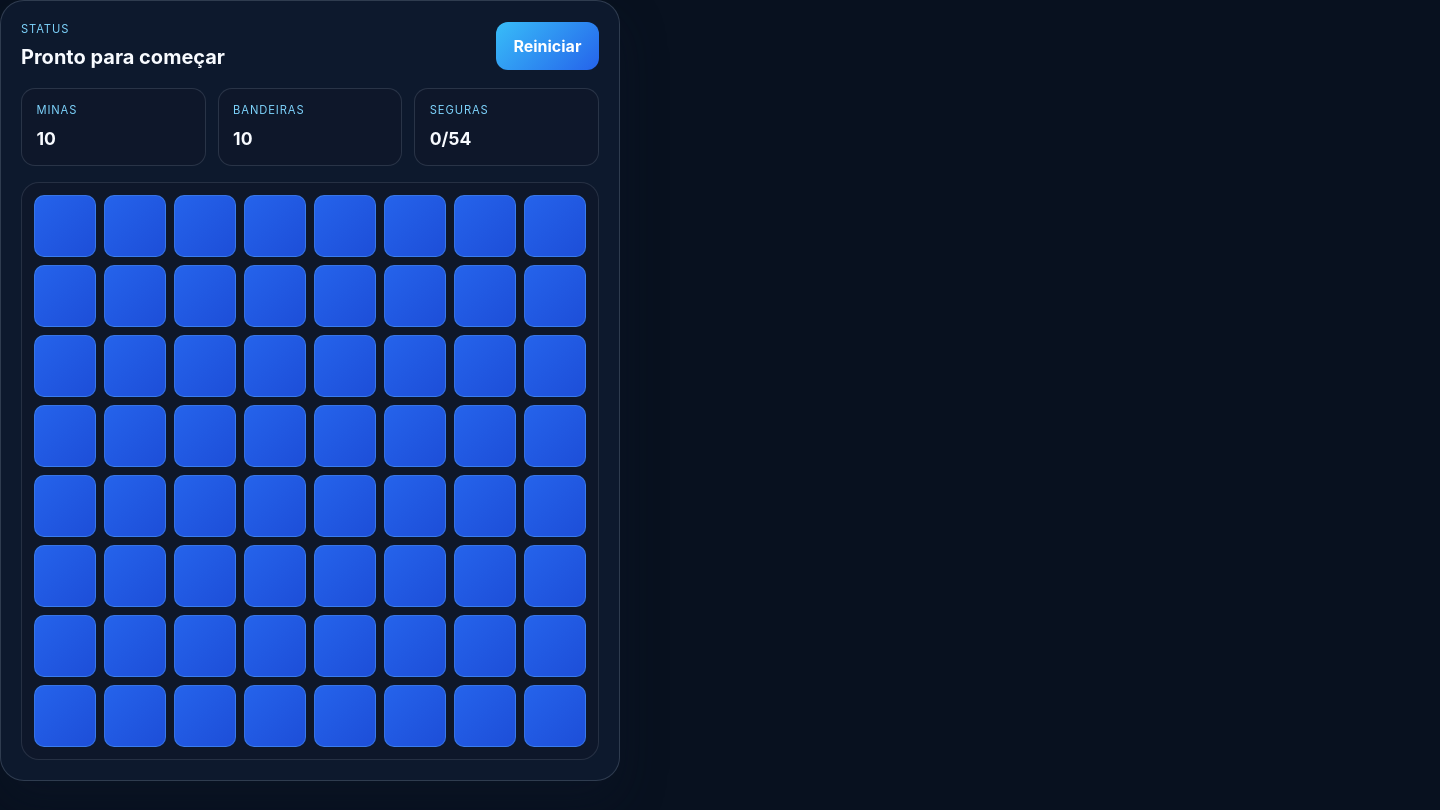
it: Minefield › reinicia o jogo pelo botão e pelo modal
The image size is (1440, 810).
Right-click the button named "Campo 8-8".
right_click(555, 716)  # box [524,685,586,747]
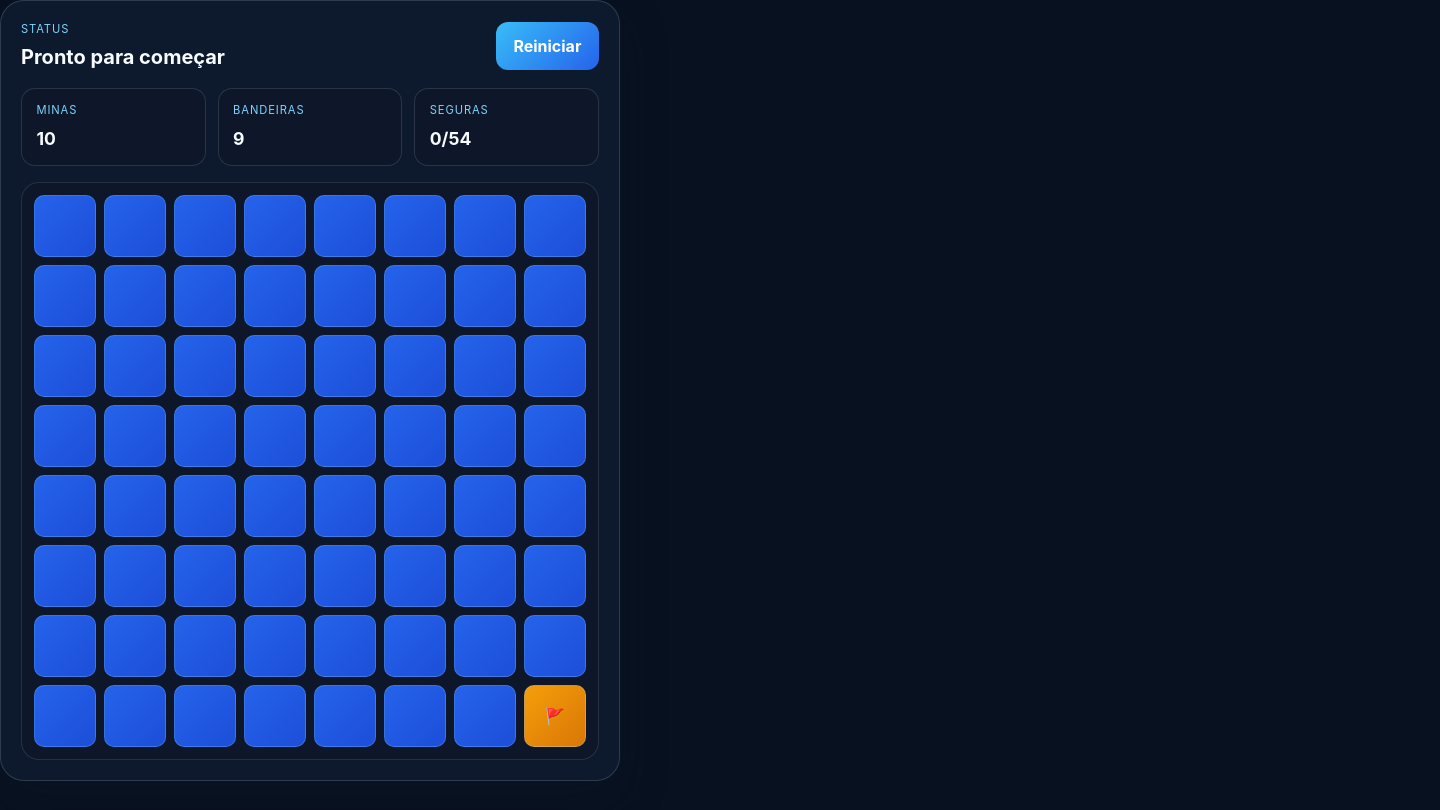
Click the button named "Campo 3-1".
click(65, 366)  # box [34,335,96,397]
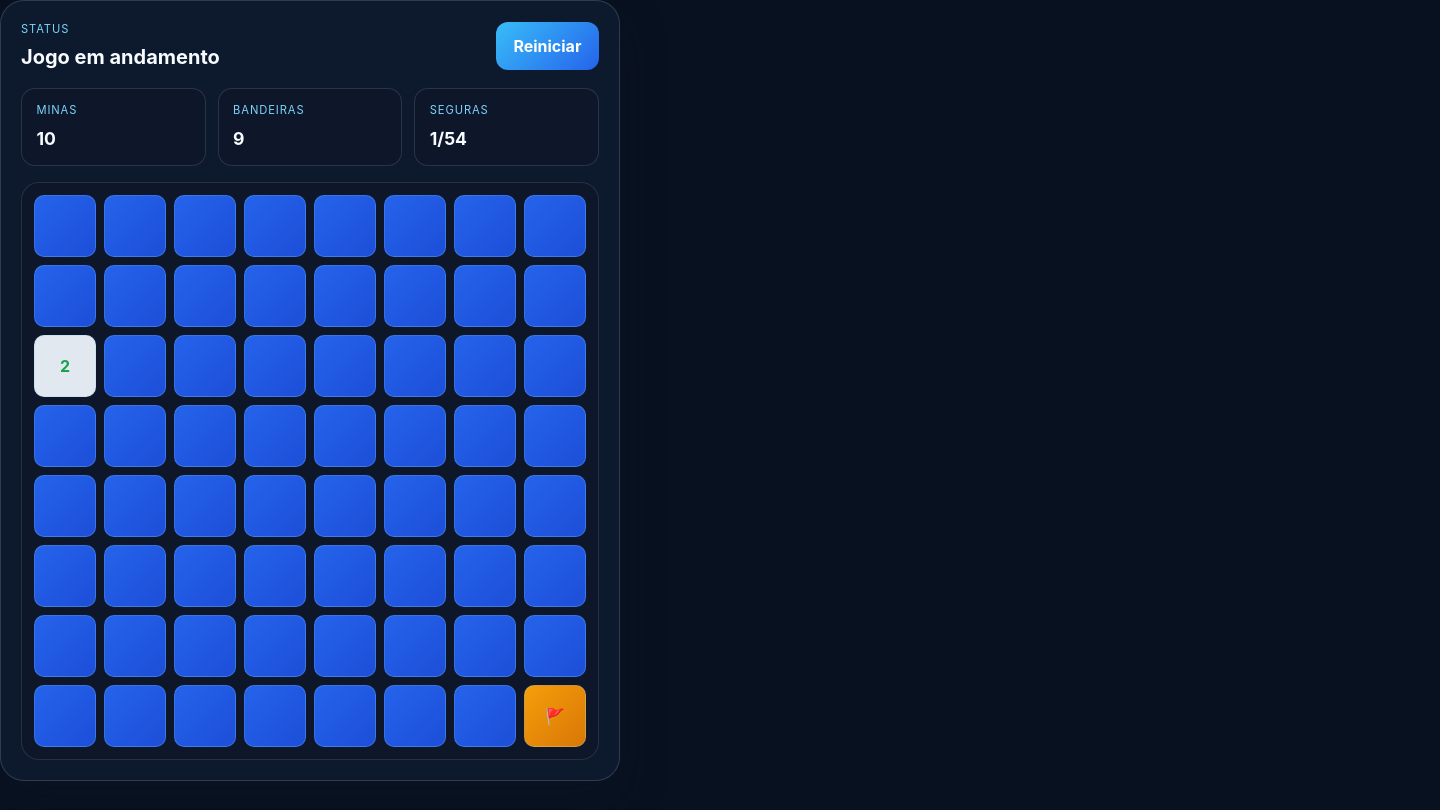
Click the button with class "reset-button".
click(547, 46)  # box [496,22,599,70]
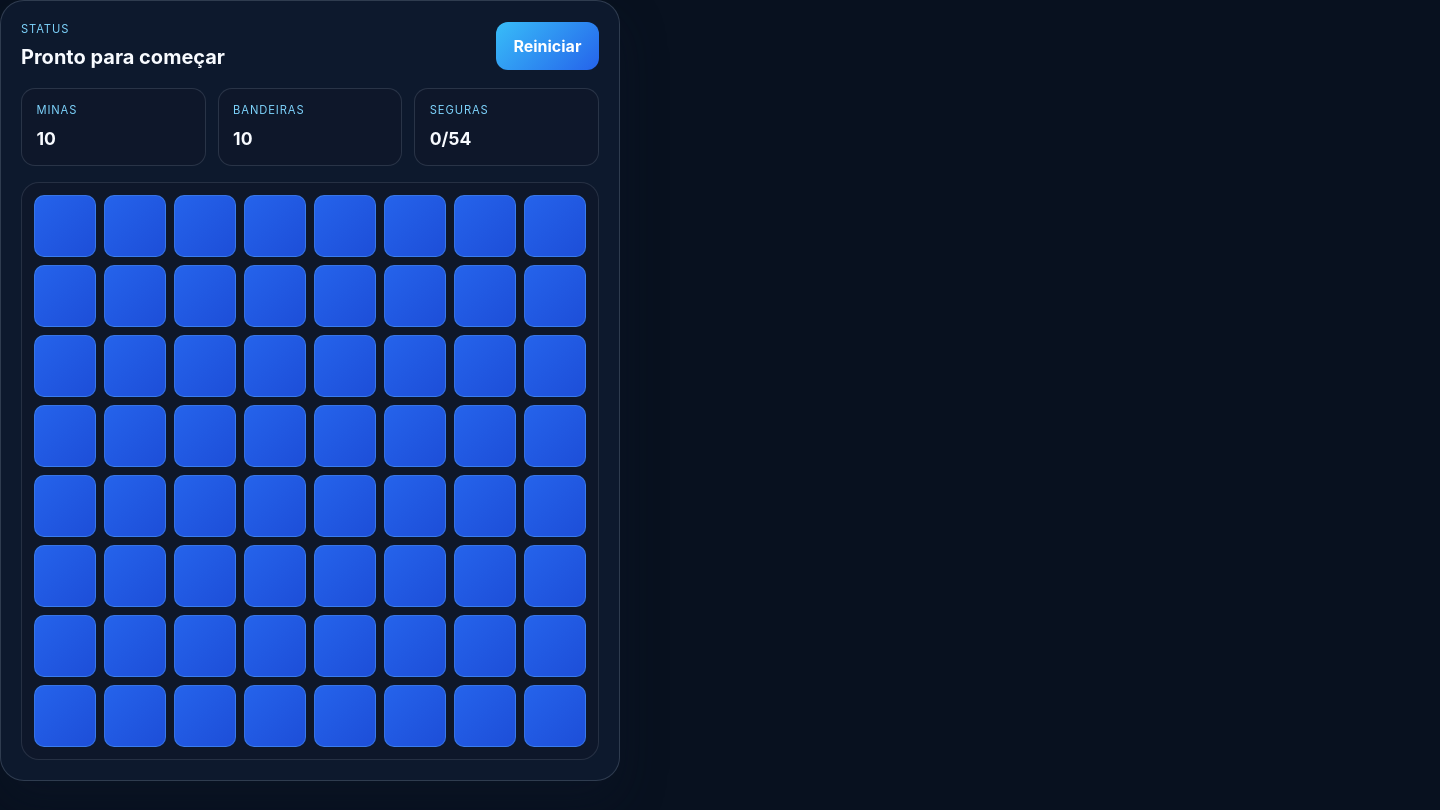
Now the text "Pronto para começar" is shown, box [21,42,225,72]
Click the button named "Campo 1-1".
click(65, 226)  # box [34,195,96,257]
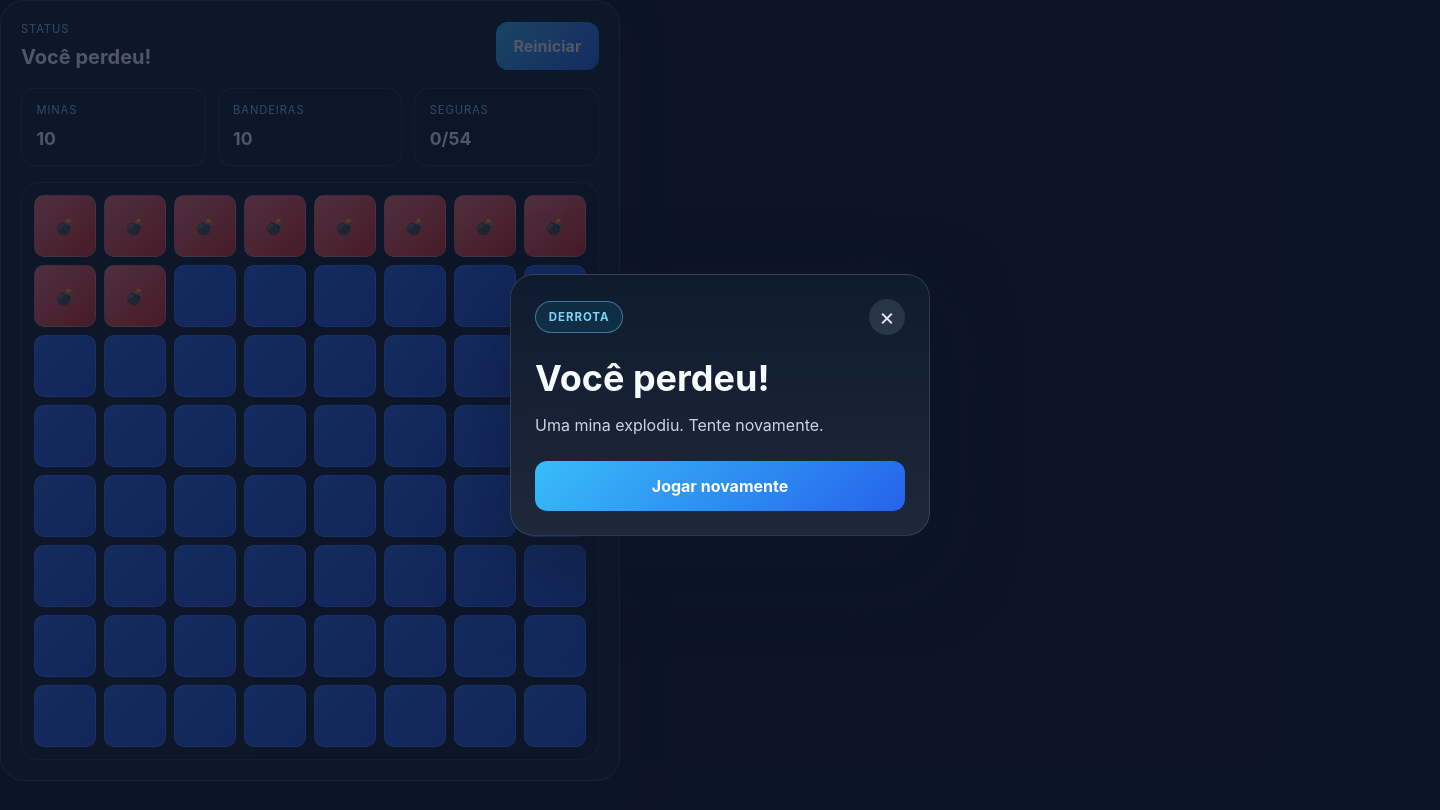
Click the button with class "modal-action".
click(720, 486)  # box [535,461,905,511]
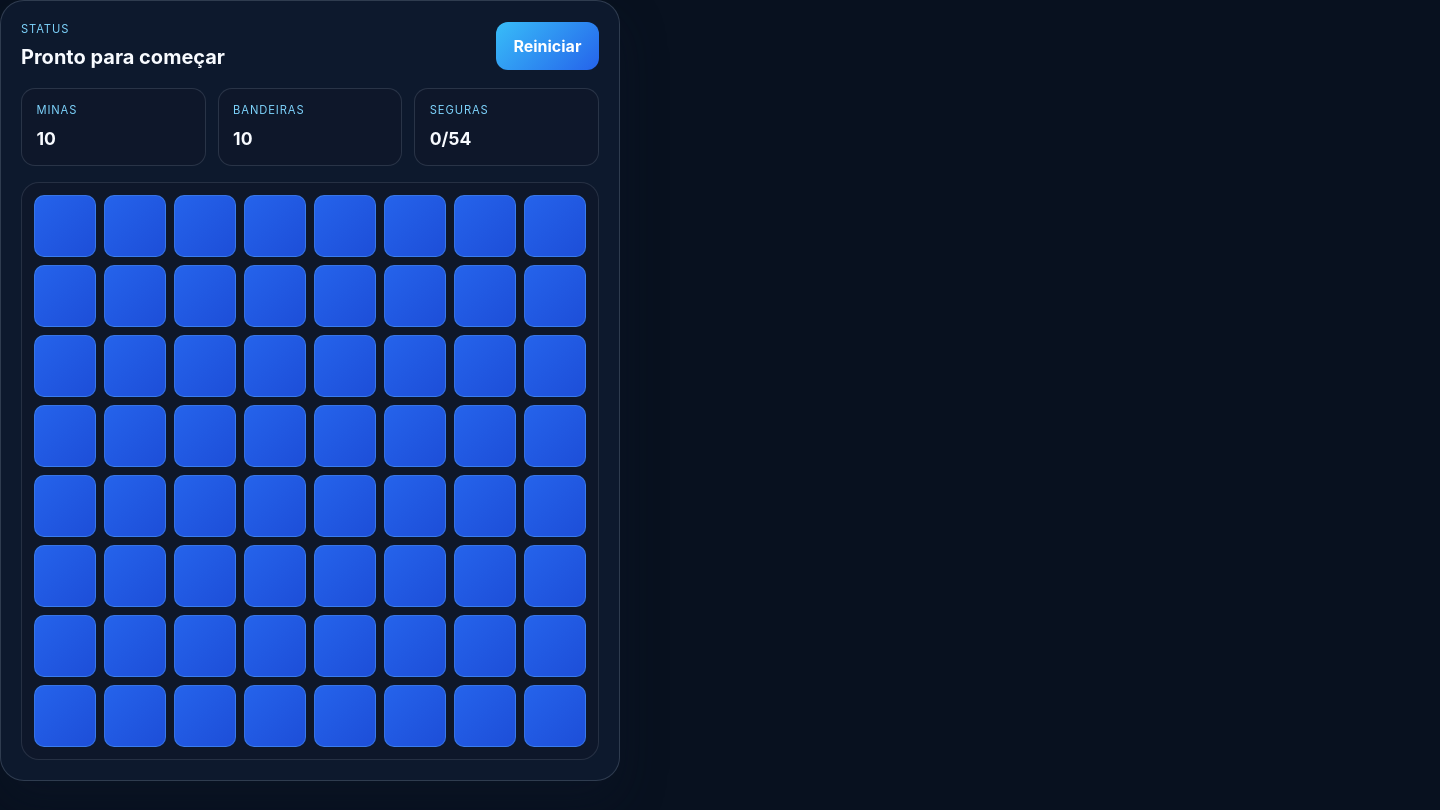
Now the dialog with class "modal-overlay" is gone
Now the text "Pronto para começar" is shown, box [21,42,225,72]
